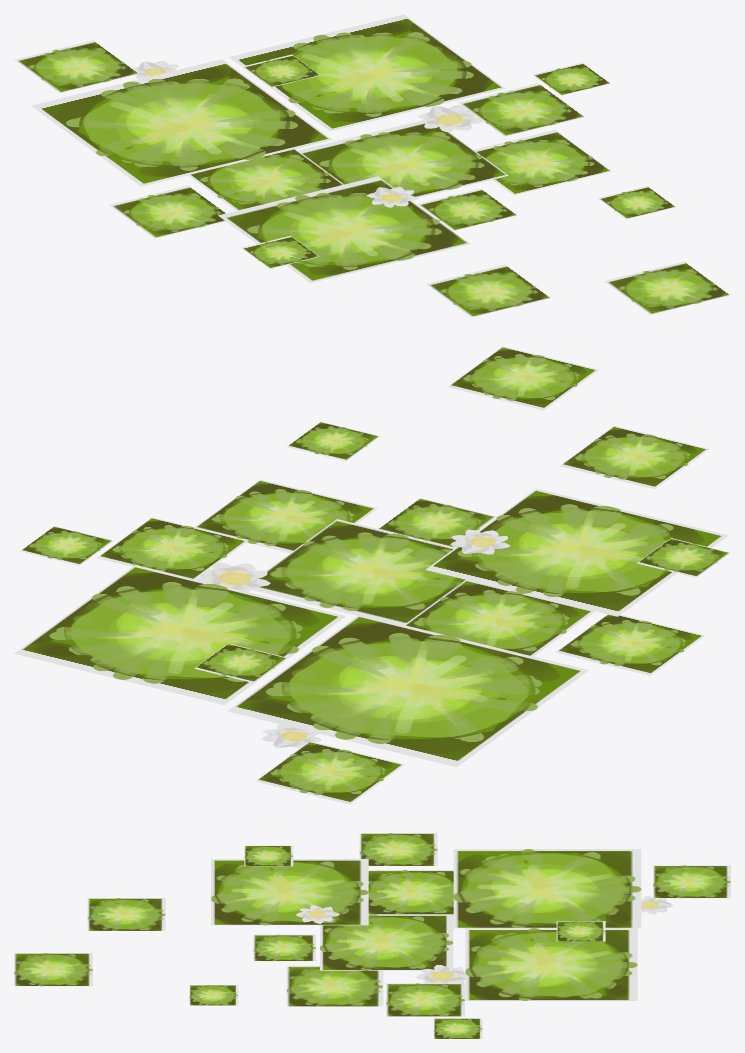
Rendered from hoasen.fbx.
The picture shows the model from 3 angles, top to bottom: view 1: azimuth 30°, elevation 25°; view 2: azimuth 150°, elevation 25°; view 3: azimuth 270°, elevation 25°; orthographic projection. The views are drawn at different scales.
Parts seen in each view (by area): view 1: Plane.003, Plane.001; view 2: Plane.003, Plane.001; view 3: Plane.003, Plane.001.
Part boxes in pixels (x1,y1,x2,y2): Plane.003: [14, 40, 730, 317]; Plane.001: [229, 14, 610, 136]; Plane.003: [194, 346, 730, 804]; Plane.001: [14, 517, 345, 704]; Plane.003: [14, 833, 730, 1006]; Plane.001: [386, 928, 637, 1038].
Size of the model in its own units: 473 by 12.58 by 692.
Materials: 2 (2 with a texture image).
